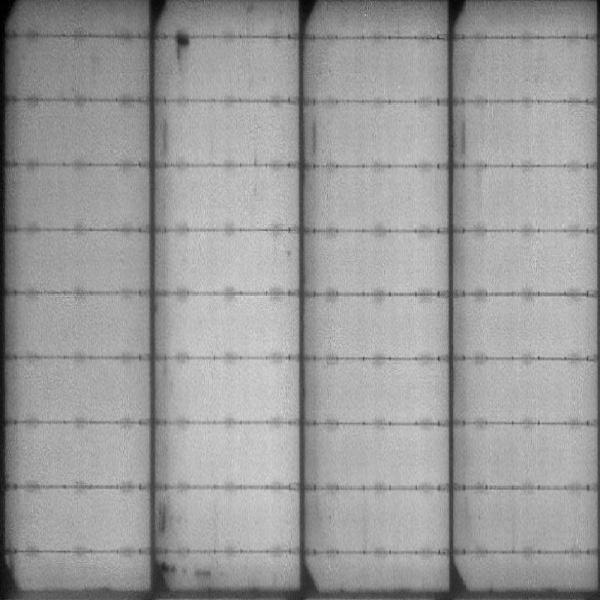scratch: (456, 111, 473, 159), (159, 115, 177, 160), (307, 113, 320, 156)
